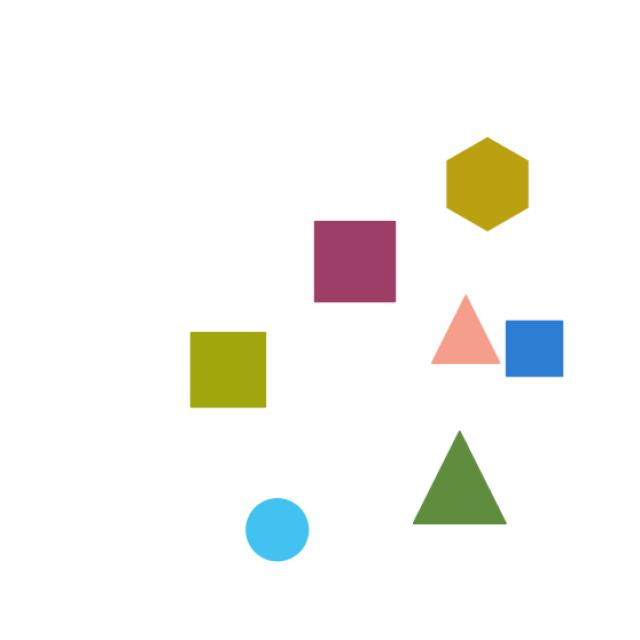Circle: (237, 486, 324, 574)
Hexagon: (434, 116, 542, 246)
Triangle: (396, 416, 526, 544), (430, 289, 512, 378)
square: (301, 206, 422, 314), (168, 316, 291, 421), (495, 315, 575, 389)
